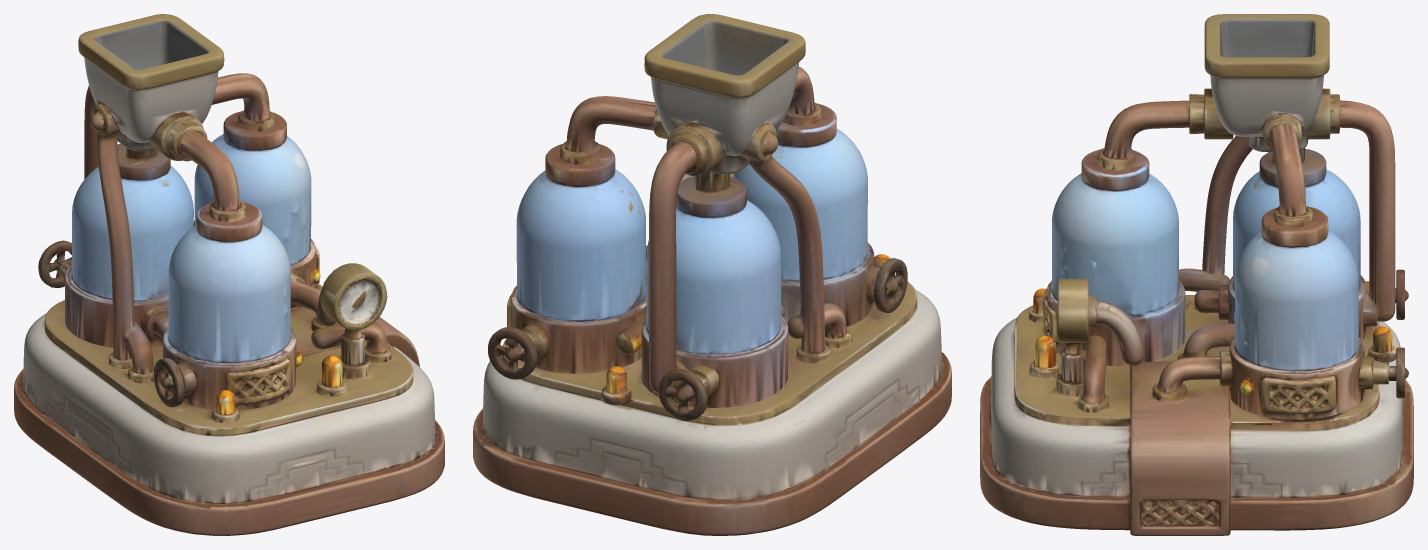
The model's file is electrolyzer.glb.
3 renders of one model, left to right at view 1: azimuth 30°, elevation 25°; view 2: azimuth 150°, elevation 25°; view 3: azimuth 270°, elevation 25°, orthographic. The views are drawn at different scales.
Visible parts, largest first — view 1: convert; view 2: convert; view 3: convert.
Boxes of the visible parts, left/top/right/bottom form: convert: left=14, top=14, right=444, bottom=535; convert: left=473, top=14, right=951, bottom=535; convert: left=980, top=14, right=1413, bottom=535.
Bounding box in the file's own units: 0.6879 × 0.8051 × 0.8012.
1 material, 1 textured.
